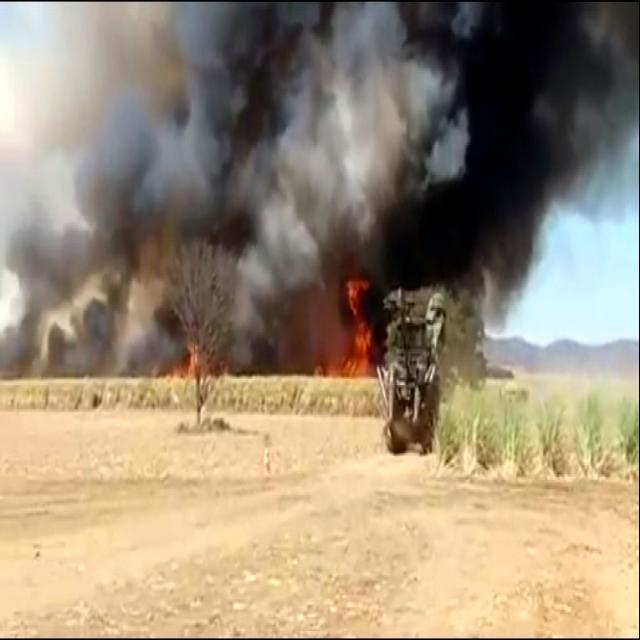Smoke: (16, 0, 620, 380)
